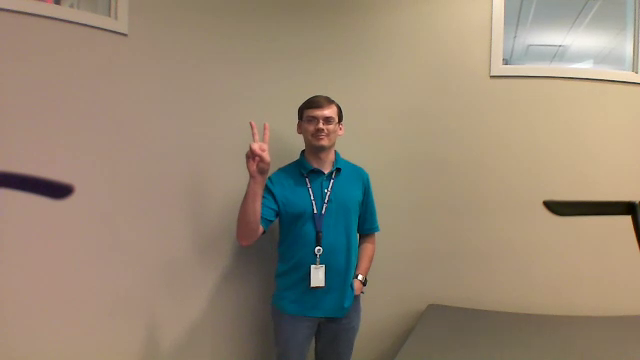peace: (239, 114, 276, 183)
